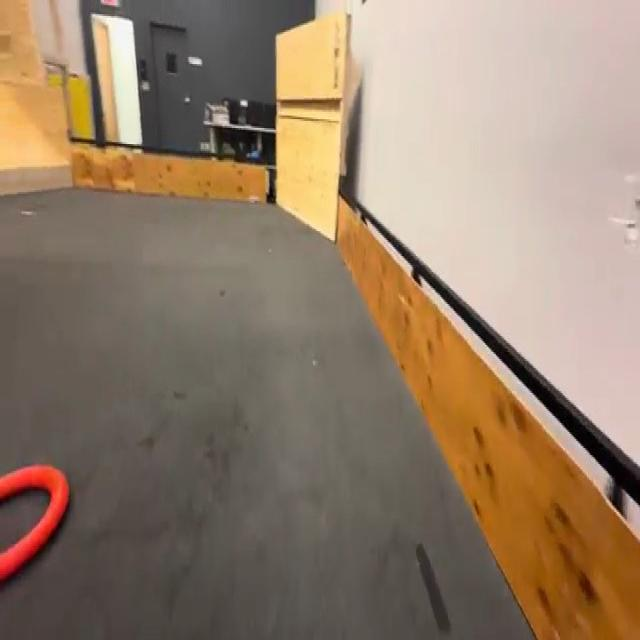note: (0, 462, 69, 594)
